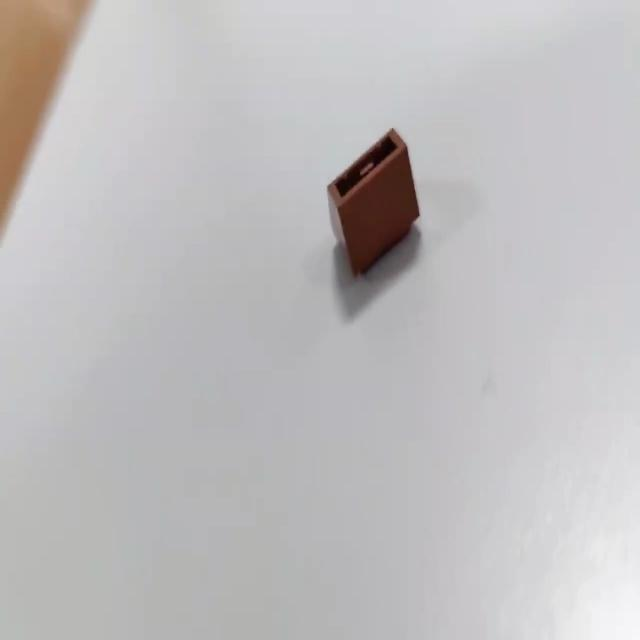X2x2x1: (326, 125, 420, 278)
